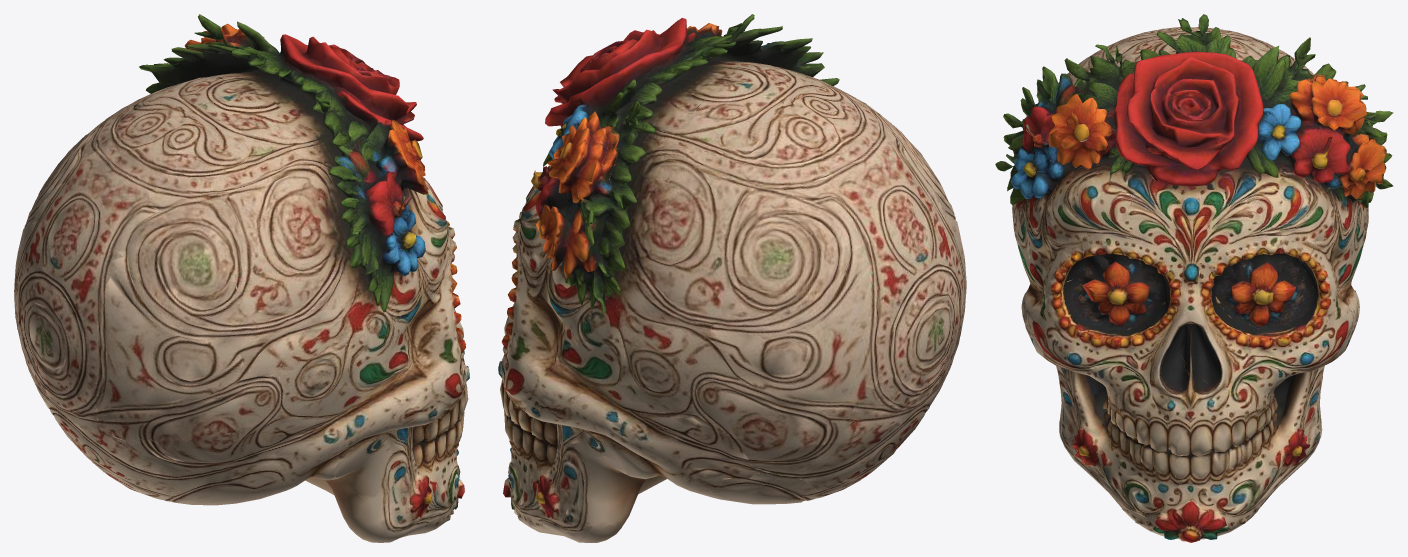
Rendered from calaverita.obj.
The picture shows the model from 3 angles, left to right: view 1: azimuth 30°, elevation 25°; view 2: azimuth 150°, elevation 25°; view 3: azimuth 270°, elevation 25°; orthographic projection. The views are drawn at different scales.
Visible parts, largest first — view 1: calaverita; view 2: calaverita; view 3: calaverita.
Part boxes in pixels (bbox=[...]): calaverita: bbox=[14, 14, 469, 542]; calaverita: bbox=[498, 14, 966, 542]; calaverita: bbox=[995, 14, 1393, 542].
Size of the model in its own units: 0.8666 by 0.9957 by 0.8057.
1 material, 1 textured.
